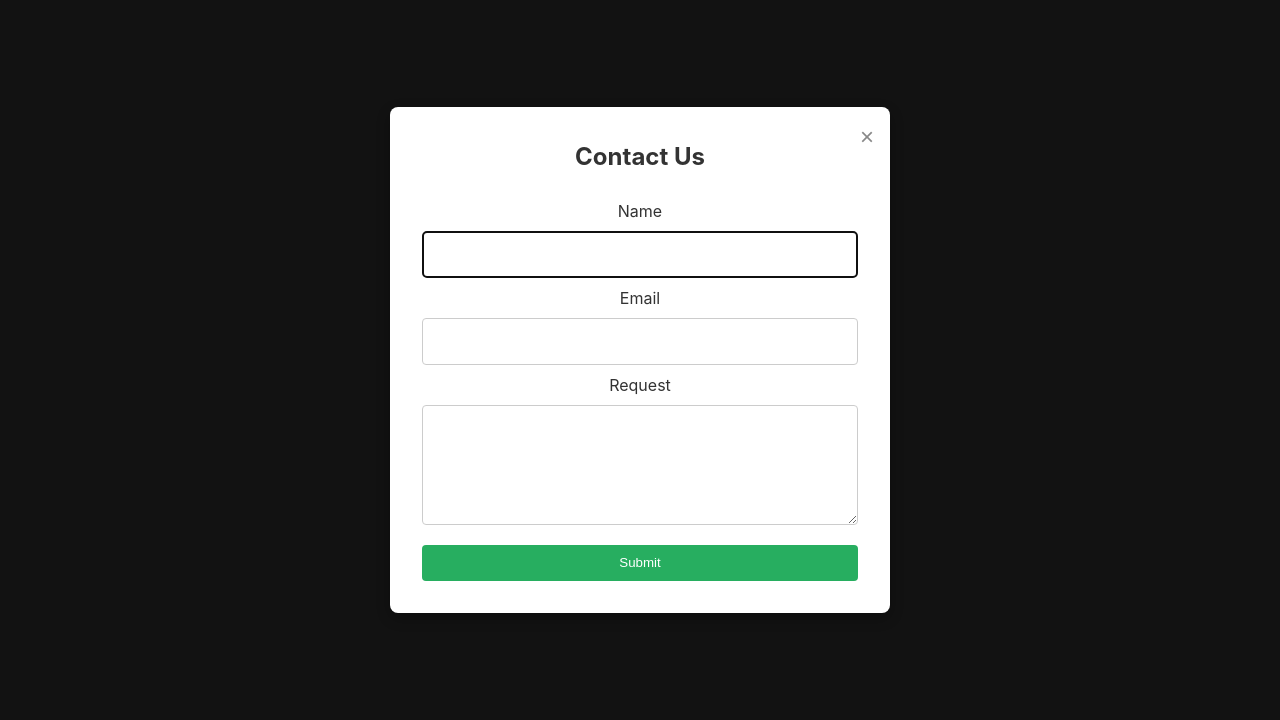
it: ContactModal › shows the success message and removes submitted entries
Type "Taylor" into the field labelled "Name". click: (640, 255)
box: left=422, top=231, right=858, bottom=278
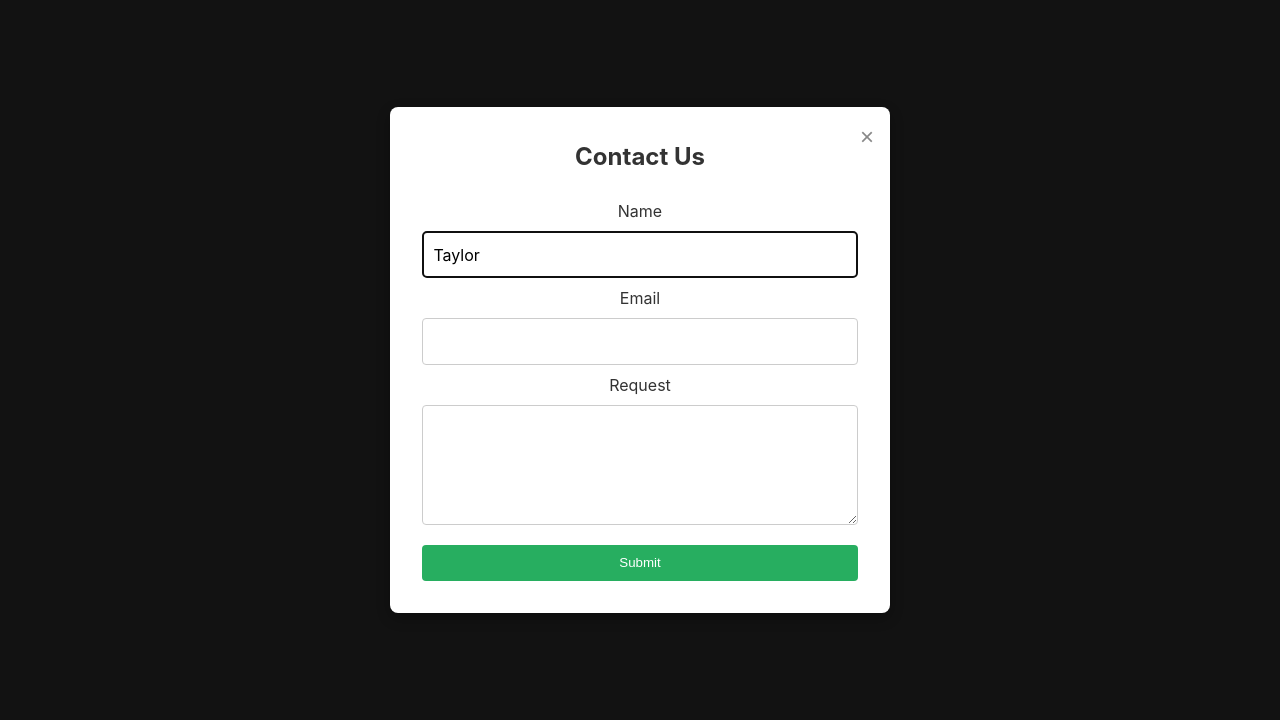
Type "taylor@example.com" into the field labelled "Email". click: (640, 342)
box: left=422, top=318, right=858, bottom=365
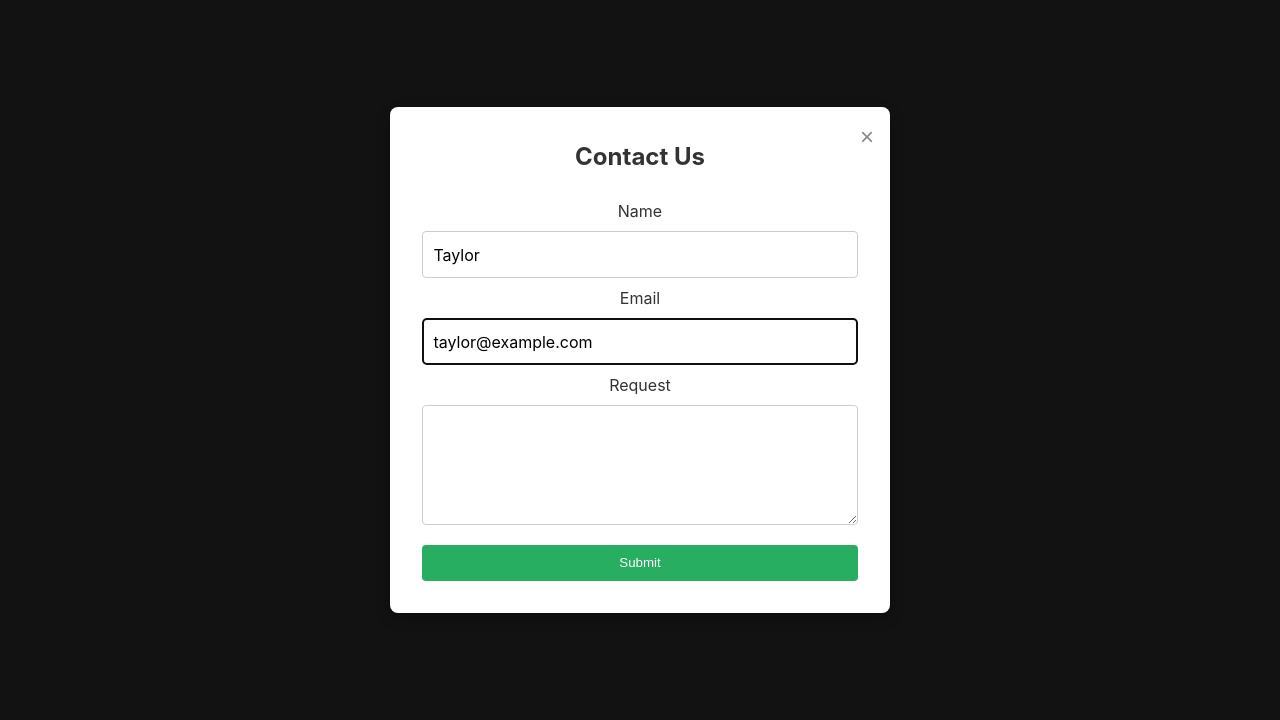
Type "Please contact me." into the text box labelled "Request". click: (640, 465)
box: left=422, top=405, right=858, bottom=525
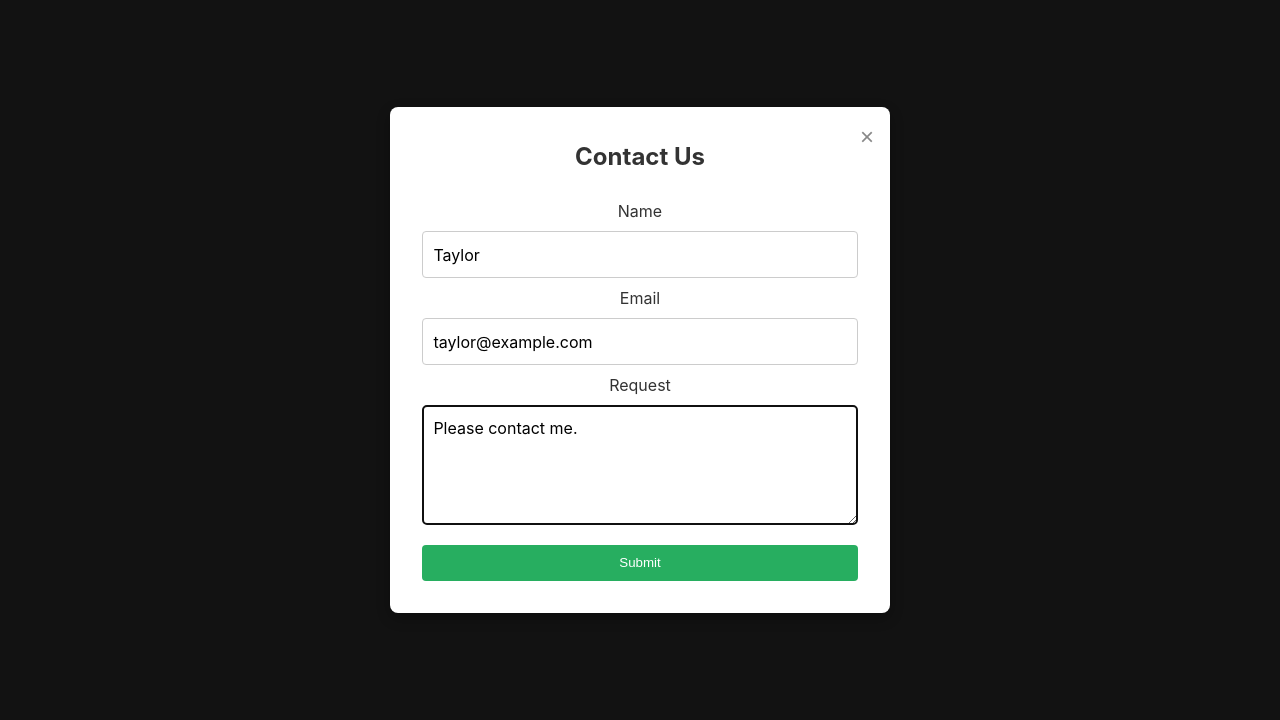
Click the button "Submit". click: (640, 563)
box: left=422, top=545, right=858, bottom=581
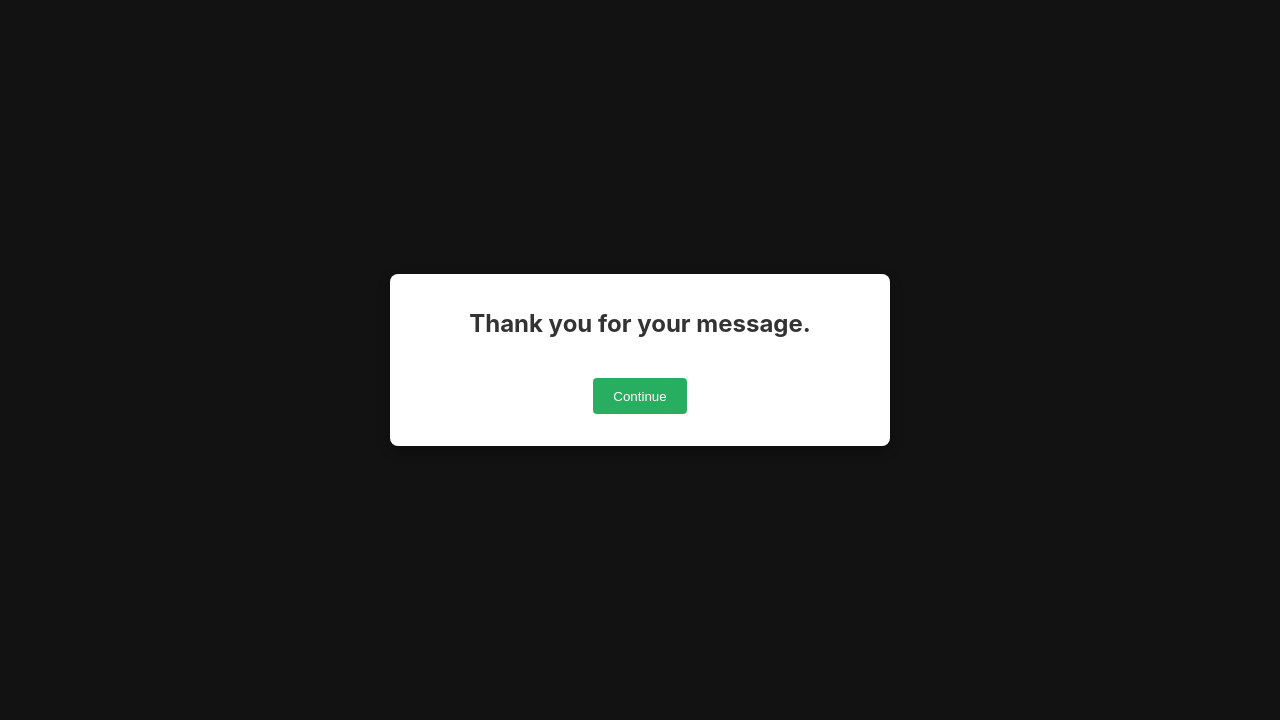
Expected: the heading "Thank you for your message." is shown, left=469, top=309, right=811, bottom=338
Expected: the label labelled "Name" is gone
Expected: the label labelled "Email" is gone
